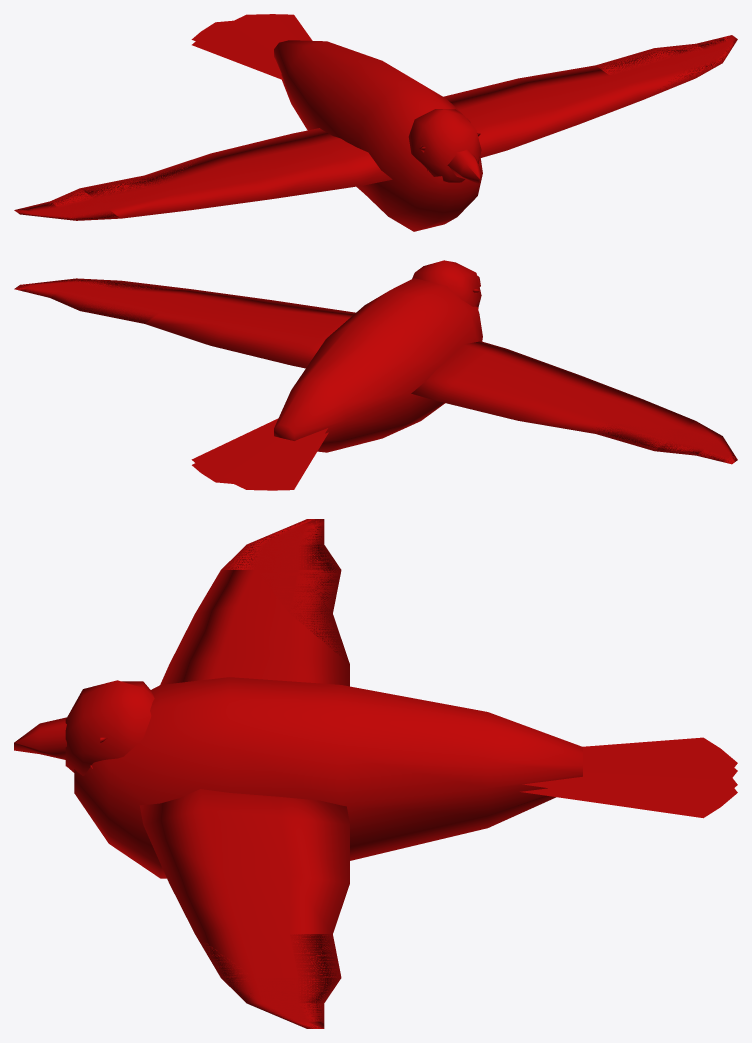
Rendered from nutcracker.glb.
The picture shows the model from 3 angles, top to bottom: view 1: azimuth 30°, elevation 25°; view 2: azimuth 150°, elevation 25°; view 3: azimuth 270°, elevation 25°; orthographic projection. The views are drawn at different scales.
Parts seen in each view (by area): view 1: wing, body; view 2: wing, body; view 3: body, wing.
Boxes of the visible parts, <box> form: wing: <box>14,35,737,220</box>; body: <box>191,14,482,231</box>; wing: <box>14,278,737,464</box>; body: <box>191,260,482,490</box>; body: <box>14,677,737,878</box>; wing: <box>139,519,349,1028</box>.
Bounding box in the file's own units: 0.5469 × 0.0938 × 0.3281.
